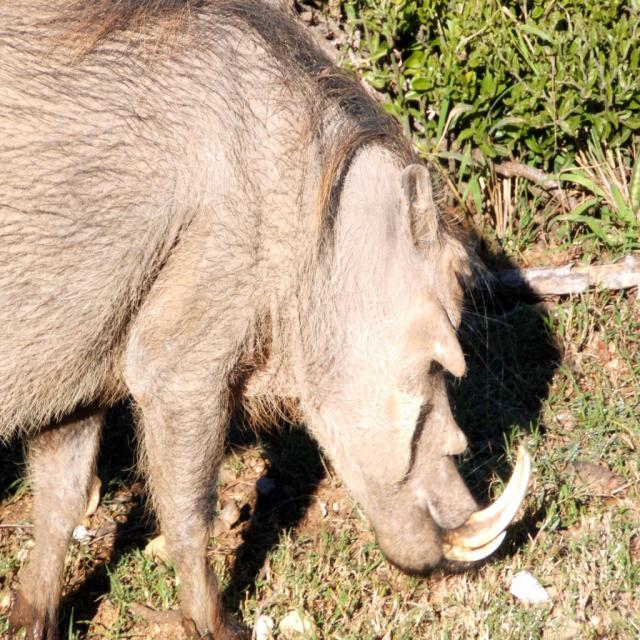Pig: (0, 0, 532, 640)
